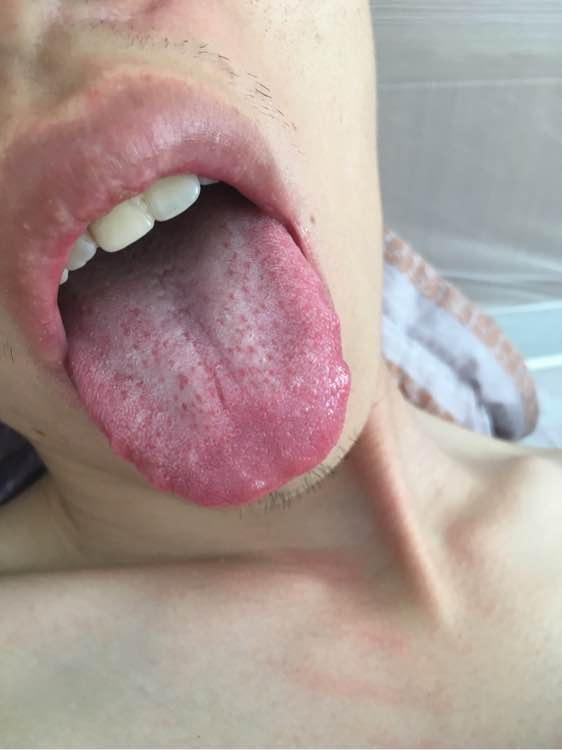baitaishe: (58, 179, 351, 509)
hongdianshe: (174, 372, 191, 391), (219, 240, 229, 249)
hongshe: (58, 179, 351, 509)
